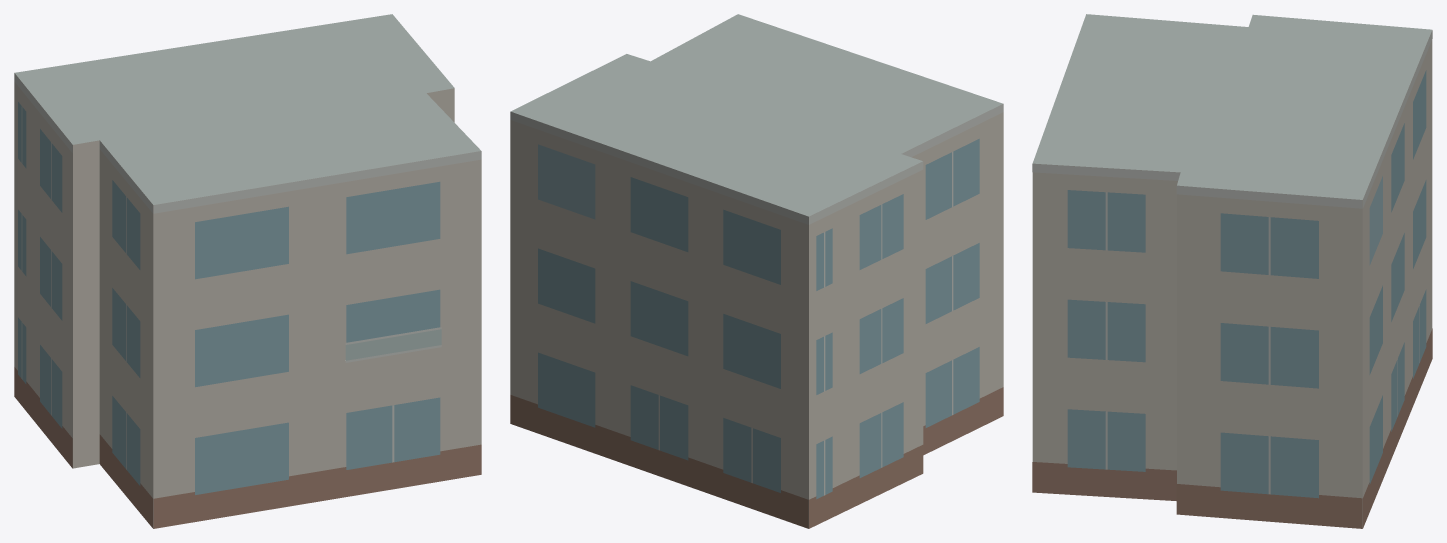
File: survey-upis-32508105.glb
The picture shows the model from 3 angles, left to right: view 1: azimuth 30°, elevation 25°; view 2: azimuth 150°, elevation 25°; view 3: azimuth 270°, elevation 25°; orthographic projection. The views are drawn at different scales.
Parts seen in each view (by area): view 1: survey-upis-32508105.tmp; view 2: survey-upis-32508105.tmp; view 3: survey-upis-32508105.tmp.
Boxes of the visible parts, x1=… form: survey-upis-32508105.tmp: x1=14, y1=14, x2=481, y2=528; survey-upis-32508105.tmp: x1=510, y1=14, x2=1003, y2=528; survey-upis-32508105.tmp: x1=1032, y1=14, x2=1432, y2=528.
Size of the model in its own units: 11.11 by 9.15 by 10.1.
